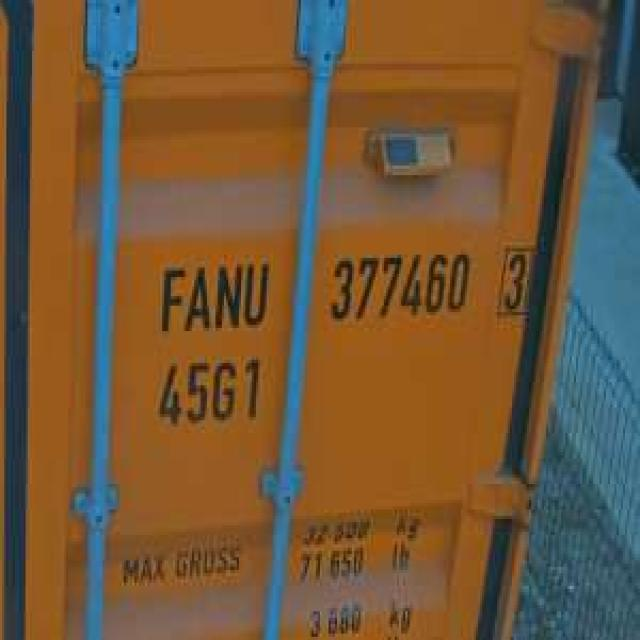dv: (495, 239, 533, 318)
owner: (151, 255, 271, 334)
serial: (324, 242, 472, 325)
size: (150, 350, 264, 430)
